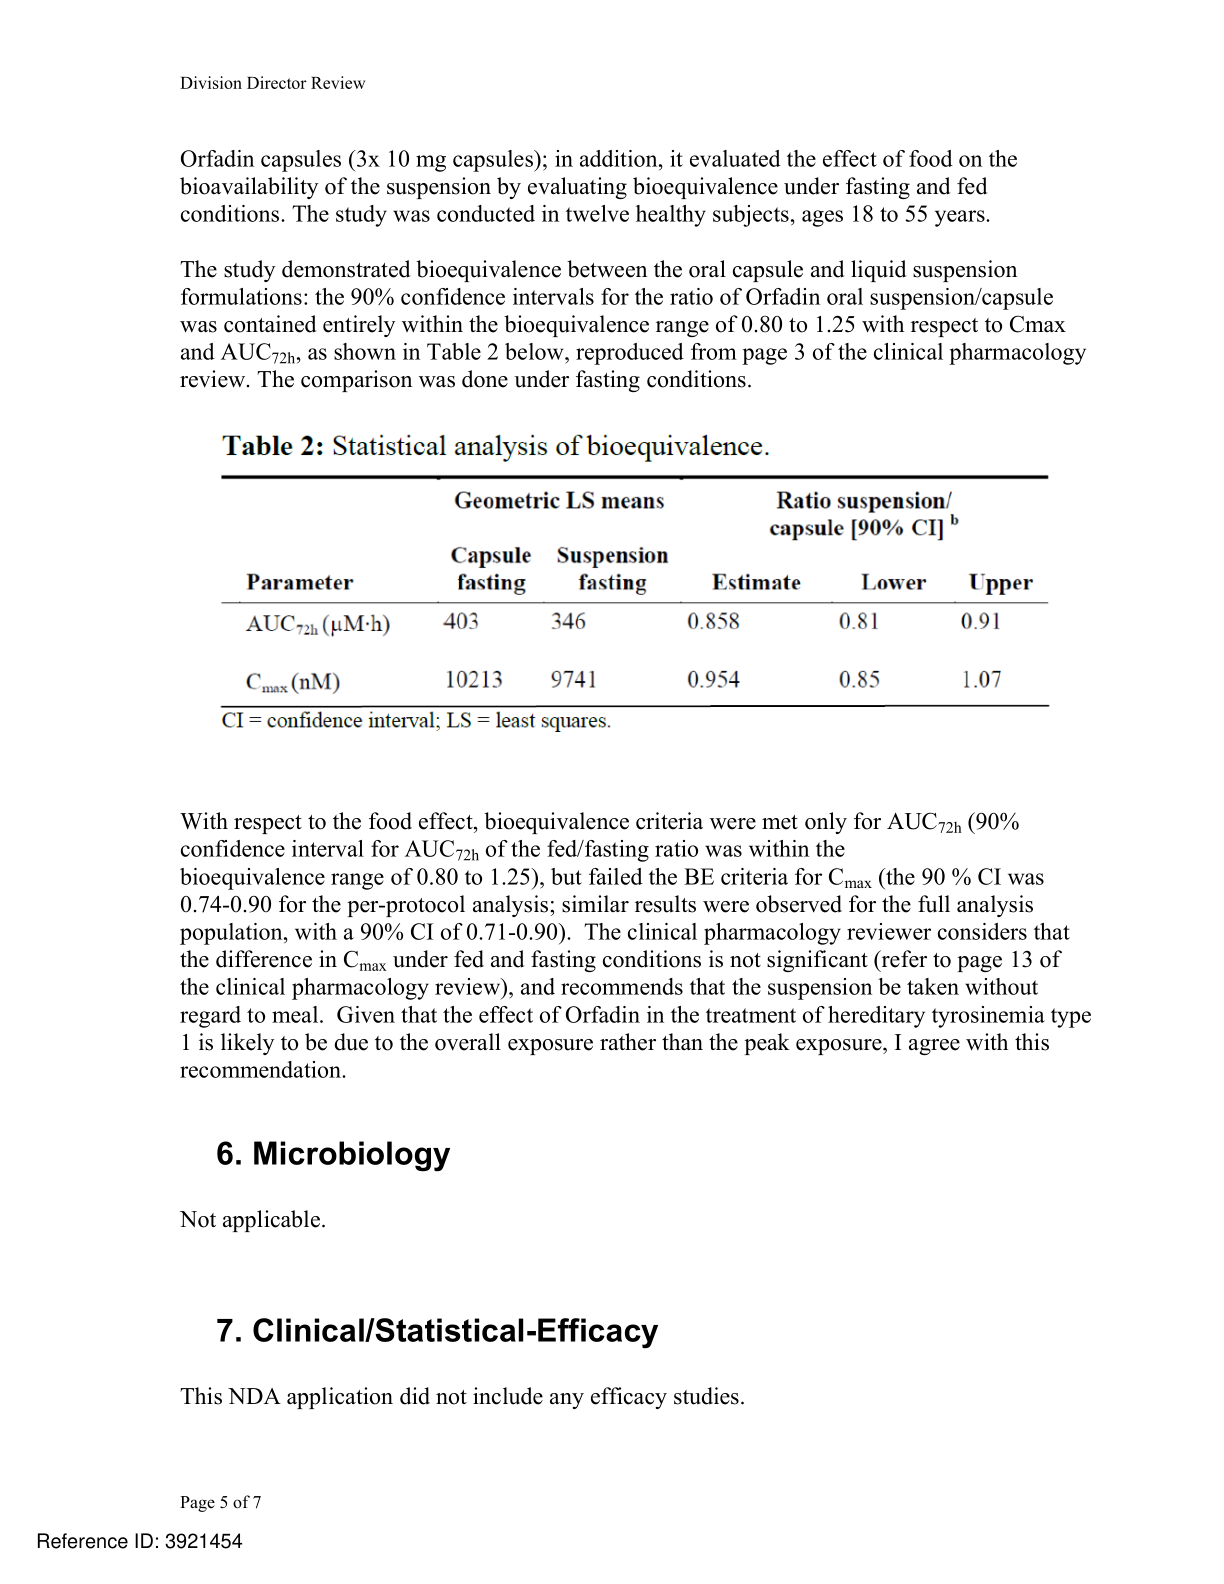partial_lined_merged_cells: (220, 472, 1048, 708)
